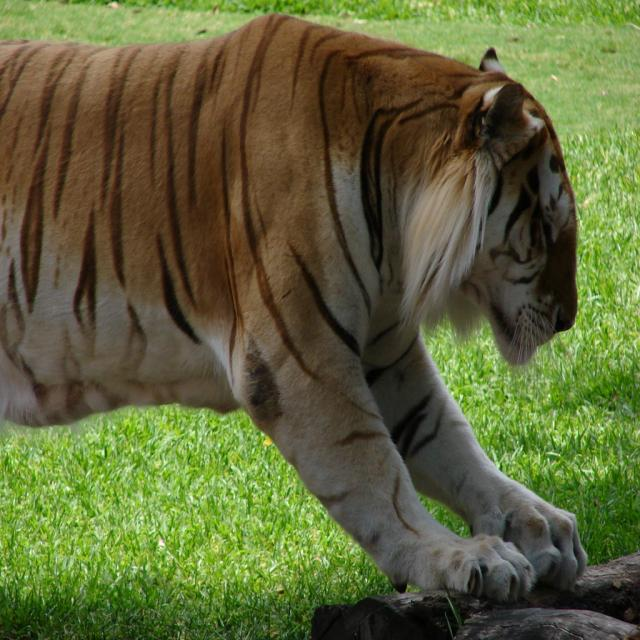Tiger: (0, 11, 578, 604)
